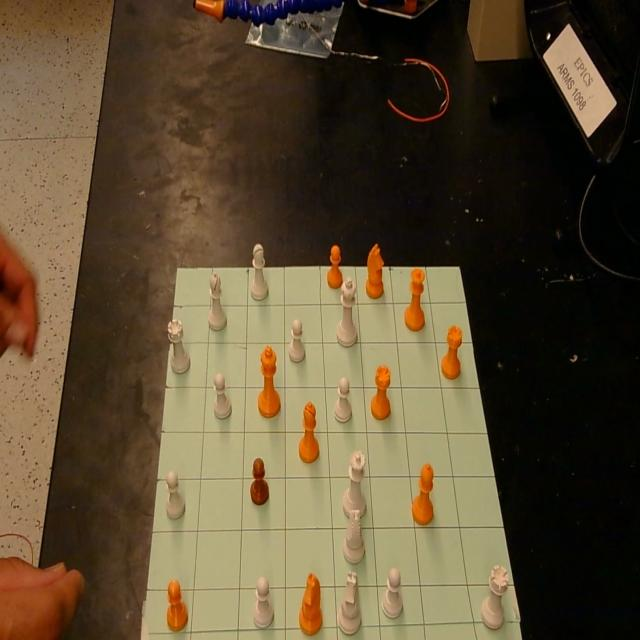orange_bishop: (411, 462, 435, 526)
orange_king: (258, 345, 281, 418)
orange_knight: (299, 572, 323, 634), (365, 242, 384, 299)
orange_pawn: (166, 578, 188, 632), (250, 458, 269, 506), (327, 244, 343, 289)
orange_queen: (404, 268, 425, 332)
orange_rook: (298, 401, 320, 462), (441, 324, 463, 380), (371, 365, 391, 420)
white_bishop: (208, 270, 227, 330), (250, 243, 268, 301)
white_king: (337, 277, 358, 346)
white_knight: (338, 570, 361, 634), (342, 507, 364, 563)
white_pawn: (253, 575, 274, 628), (382, 566, 403, 619), (166, 469, 186, 519), (212, 372, 232, 420), (334, 376, 352, 424), (288, 319, 305, 362)
white_queen: (342, 452, 367, 520)
white_rook: (481, 564, 508, 628), (167, 316, 190, 374)
